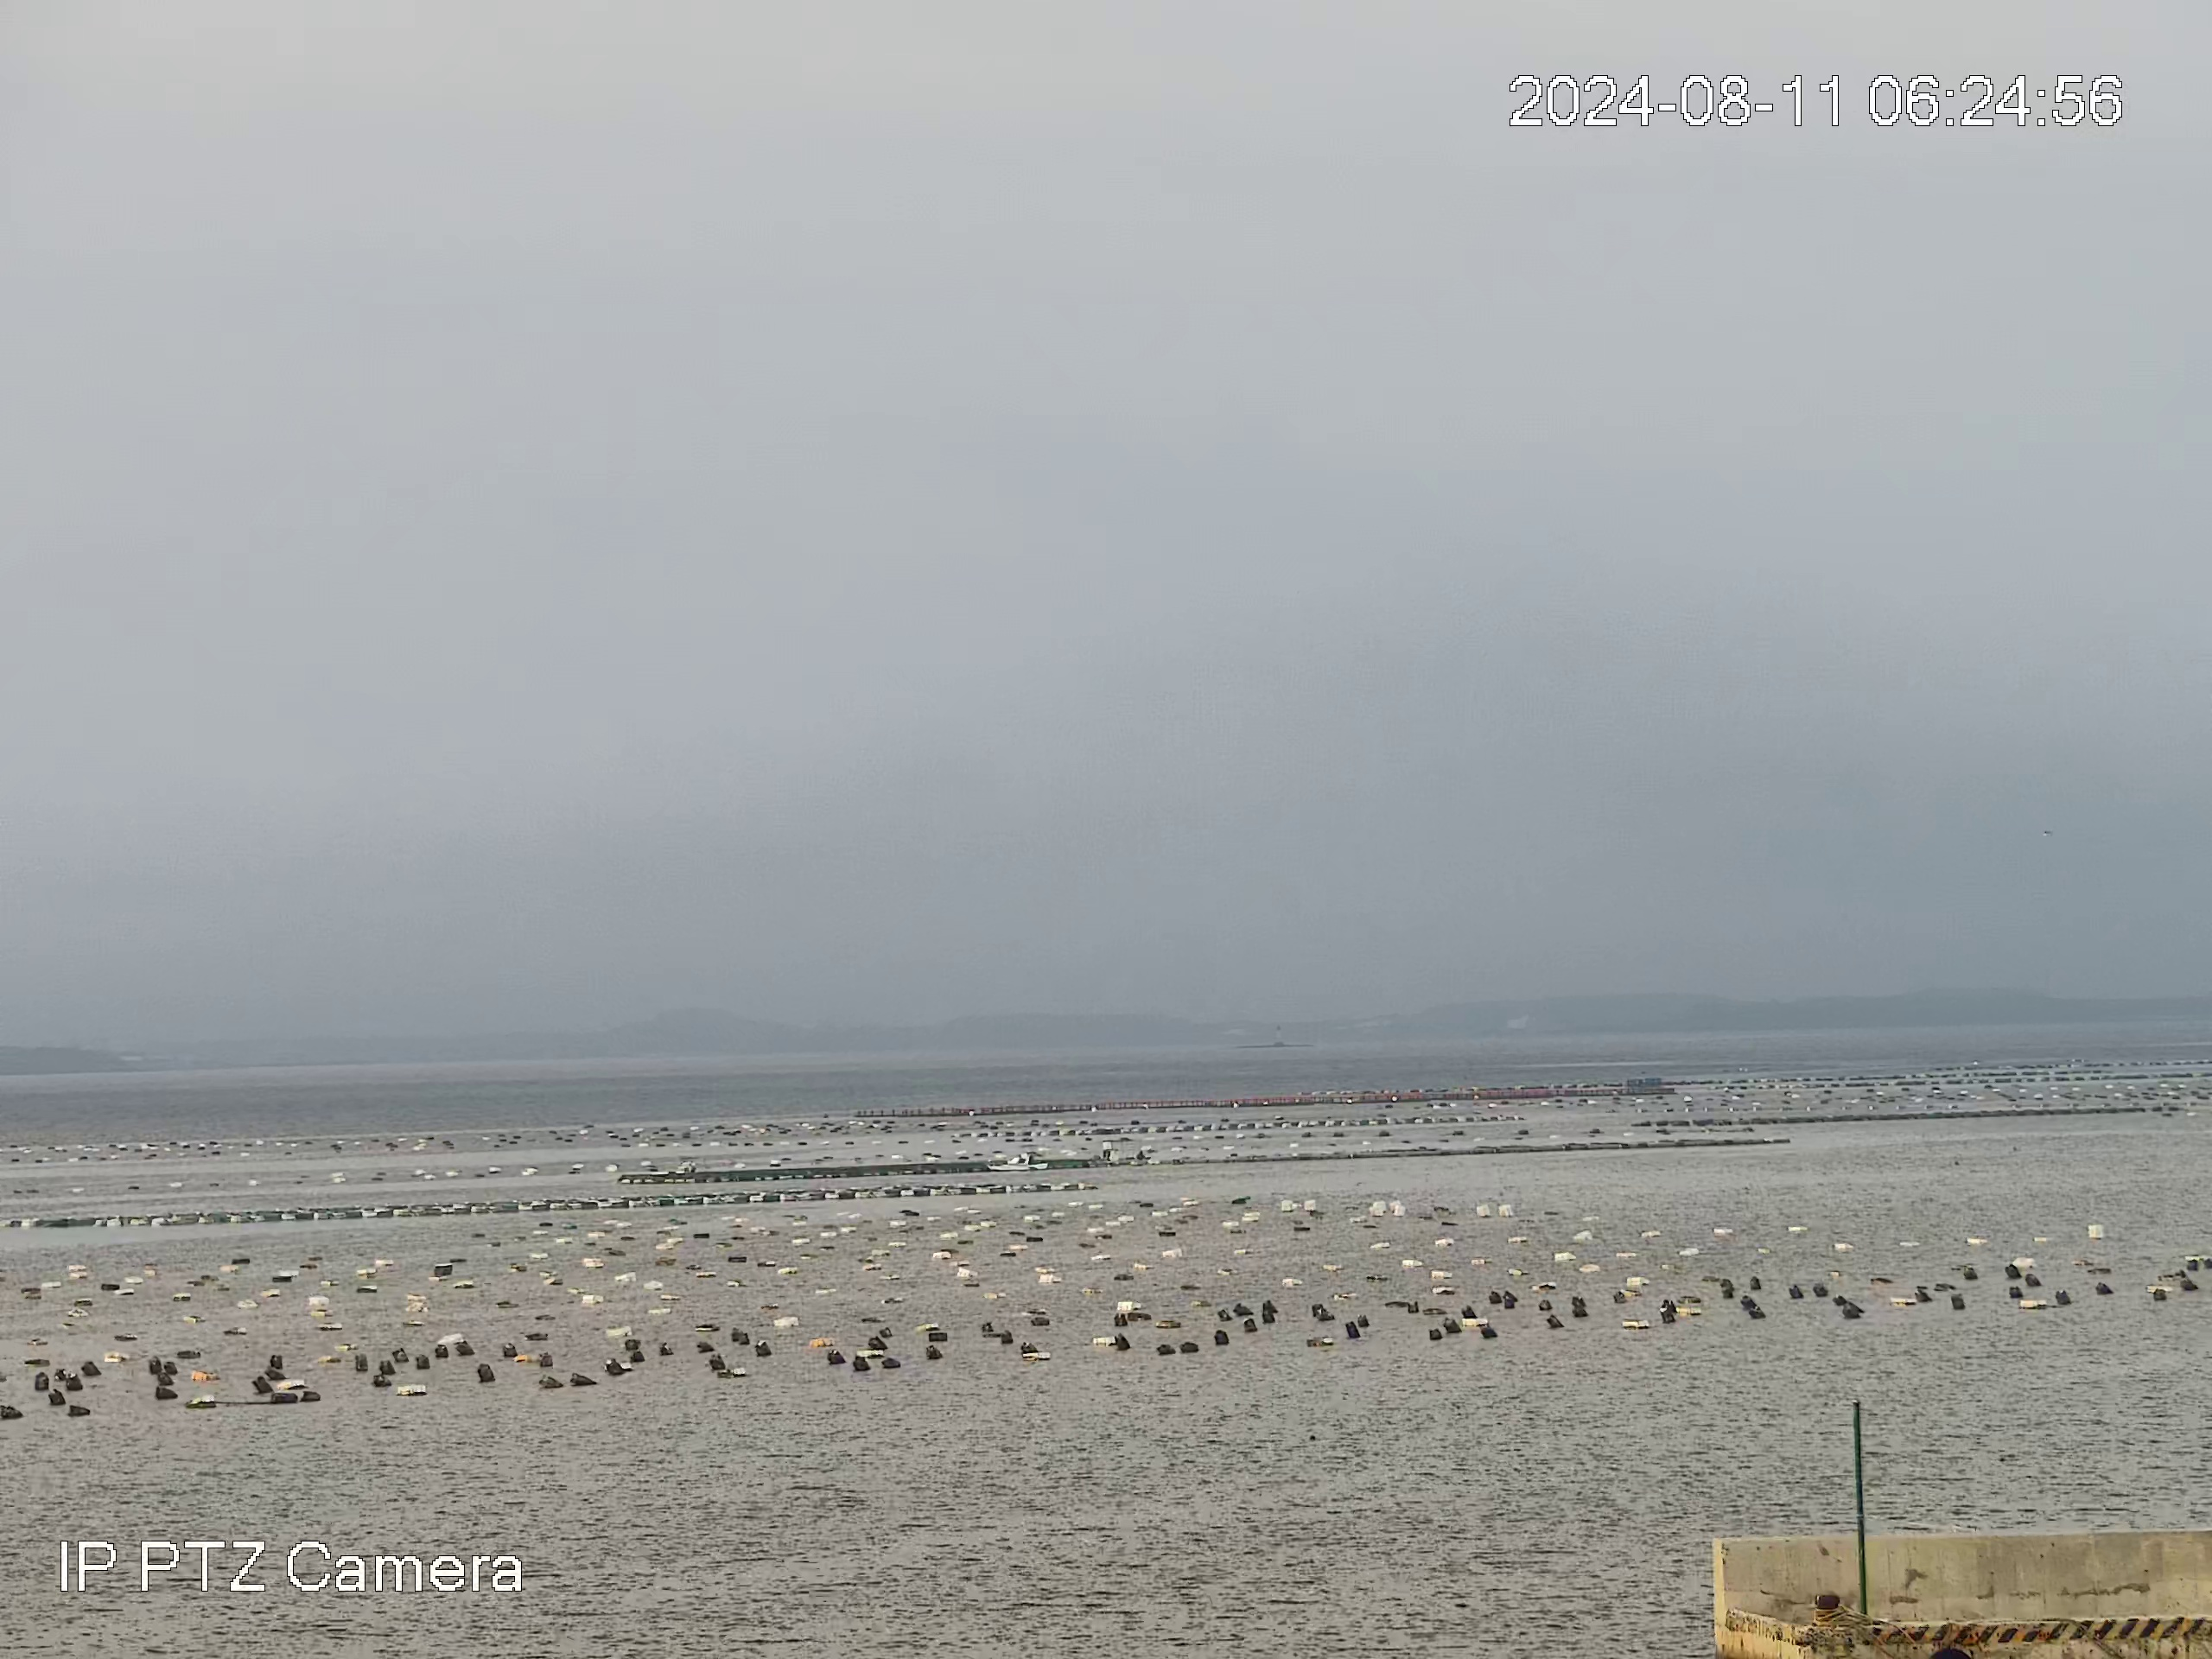boat: (984, 1150, 1050, 1173)
